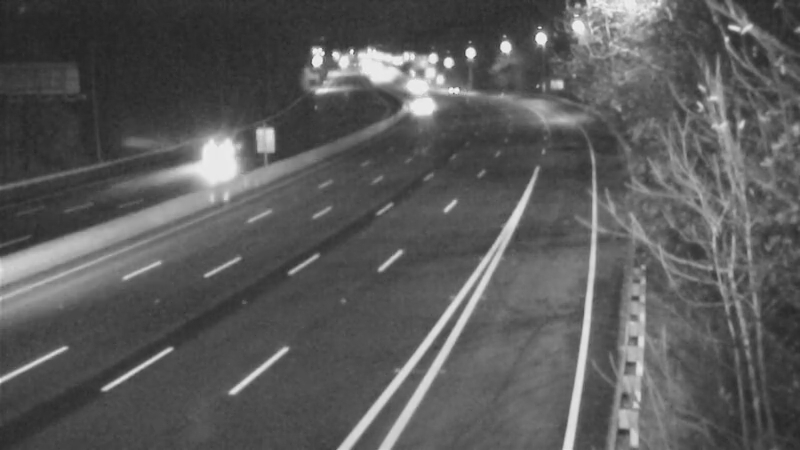vehicle: (430, 65, 480, 115), (391, 83, 441, 133), (201, 120, 251, 170)
